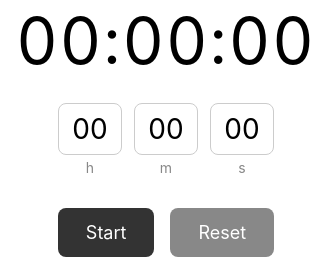
TimerScreen › timer controls › start begins the countdown from the set duration
Type "10" into the field with test id "input-seconds" at (242, 128), box left=210, top=102, right=274, bottom=154
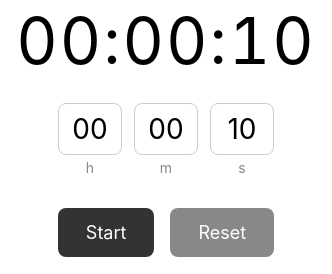
Click the element with test id "start-button" at (106, 232), box left=58, top=208, right=154, bottom=256
Wait 3000 ms
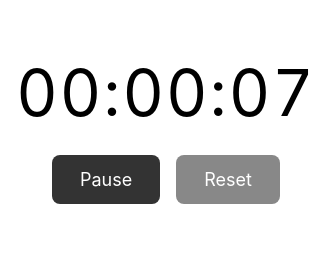
Expected: the text with test id "time-display" reads "00:00:07", left=16, top=54, right=316, bottom=131
